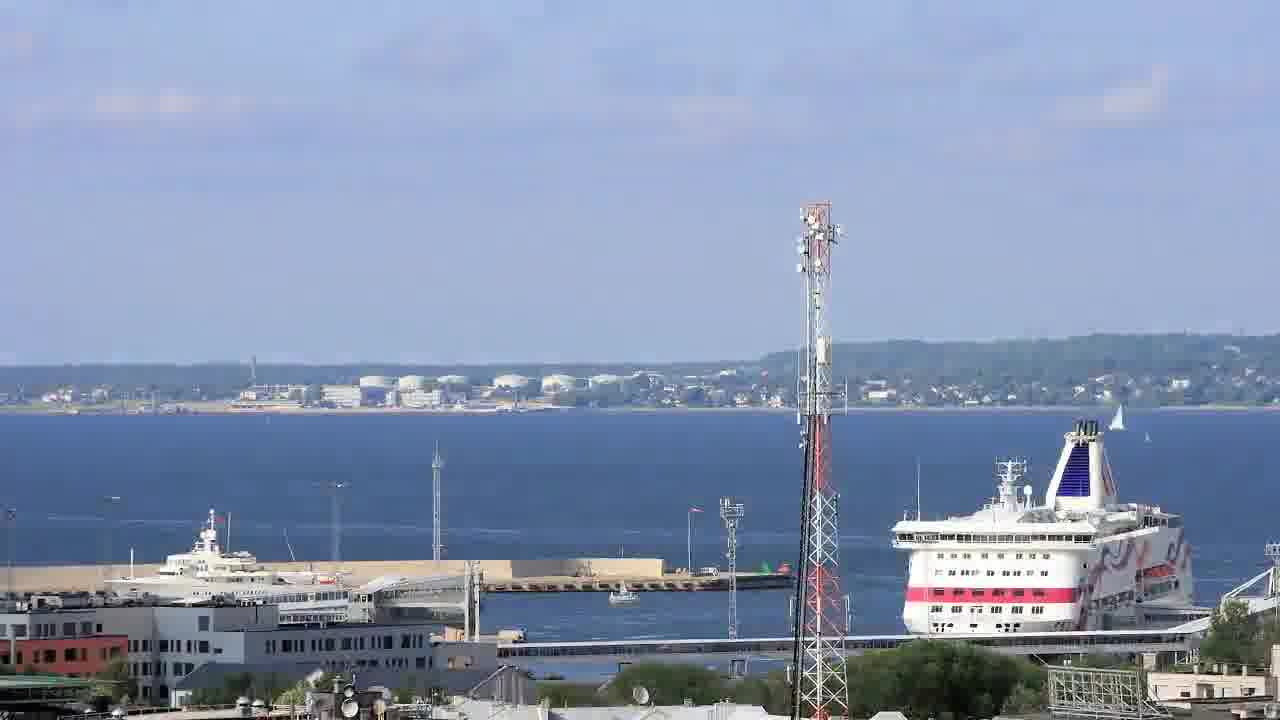type-2: (603, 562, 660, 616), (1100, 392, 1145, 447)
type-3: (868, 415, 1225, 638), (84, 511, 353, 609)
